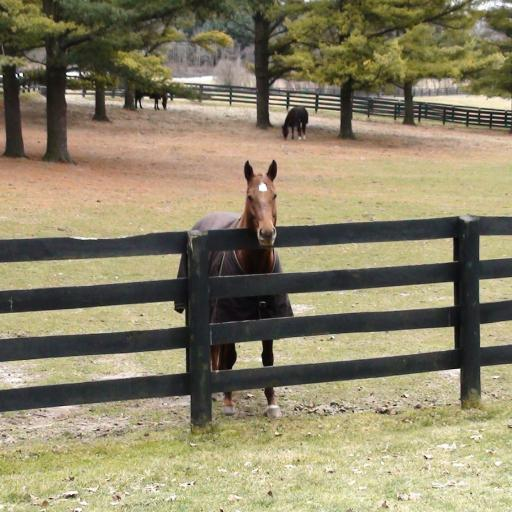horse: (176, 159, 284, 422), (281, 106, 308, 140)
